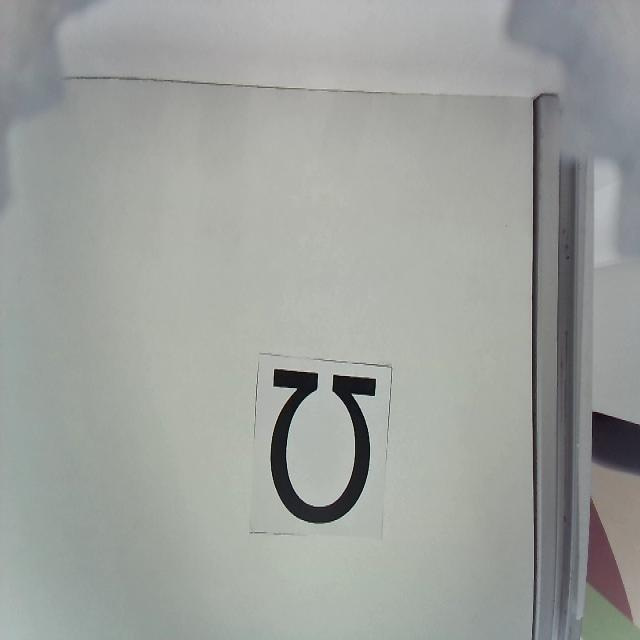OM: (270, 366, 378, 526)
